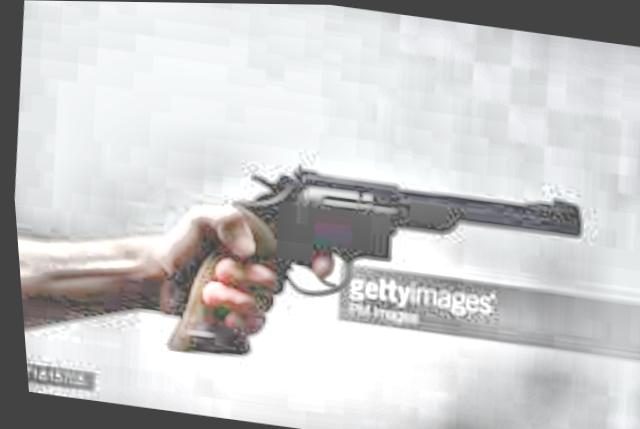pistol: (143, 141, 590, 400)
